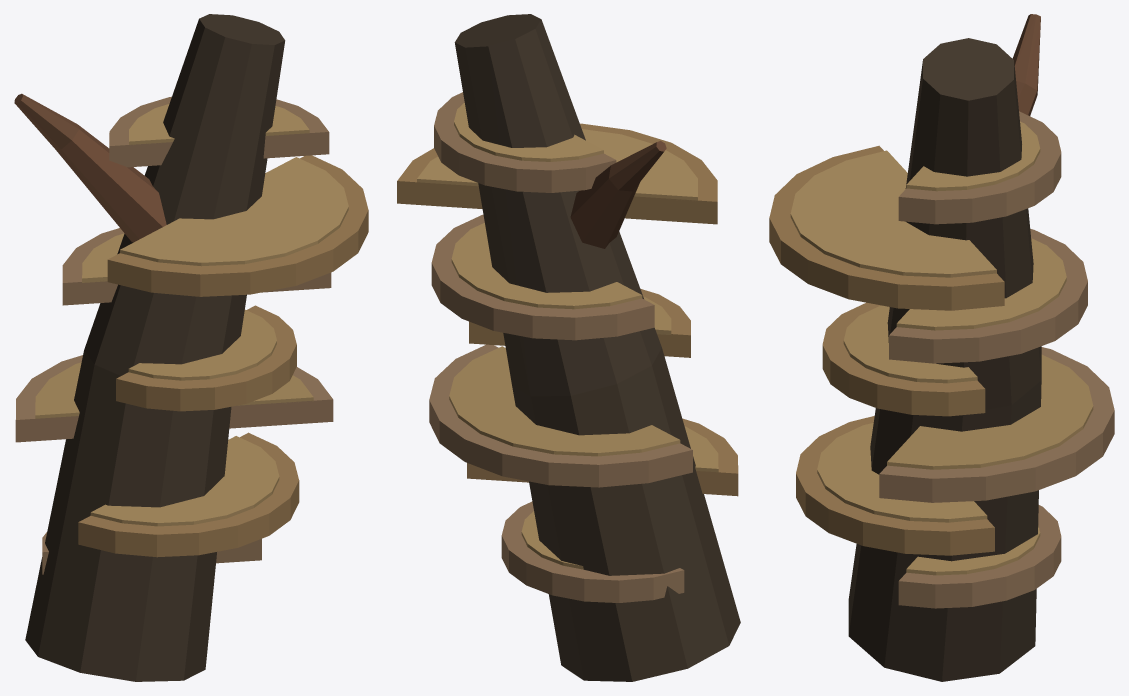
The model's file is Prop_Feature_Forest_BracketFungusTrunk_001.glb.
The picture shows the model from 3 angles, left to right: view 1: azimuth 30°, elevation 25°; view 2: azimuth 150°, elevation 25°; view 3: azimuth 270°, elevation 25°; orthographic projection. The views are drawn at different scales.
Parts seen in each view (by area): view 1: Prop_Feature_Forest_BracketFungusTrunk_001; view 2: Prop_Feature_Forest_BracketFungusTrunk_001; view 3: Prop_Feature_Forest_BracketFungusTrunk_001.
Boxes of the visible parts, box(x1,y1,x2,y2) form: Prop_Feature_Forest_BracketFungusTrunk_001: box(14, 14, 368, 681); Prop_Feature_Forest_BracketFungusTrunk_001: box(397, 14, 740, 681); Prop_Feature_Forest_BracketFungusTrunk_001: box(769, 14, 1114, 681).
Bounding box in the file's own units: 1.44 × 2.72 × 1.3.
